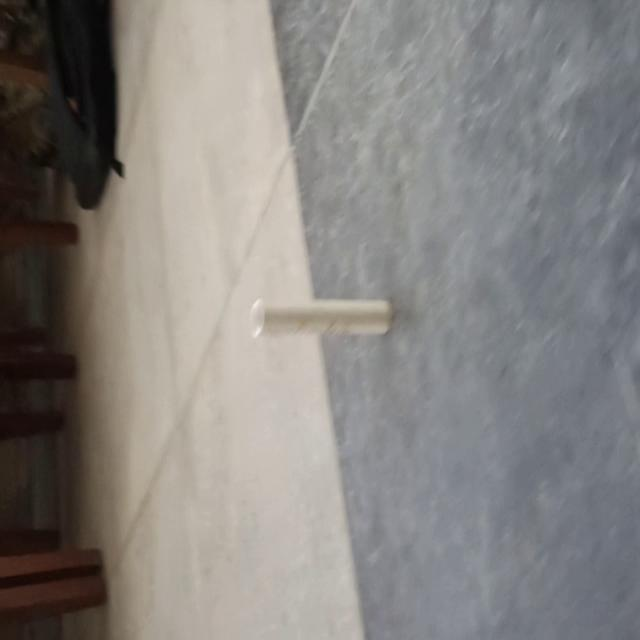Cube: (248, 294, 395, 342)
